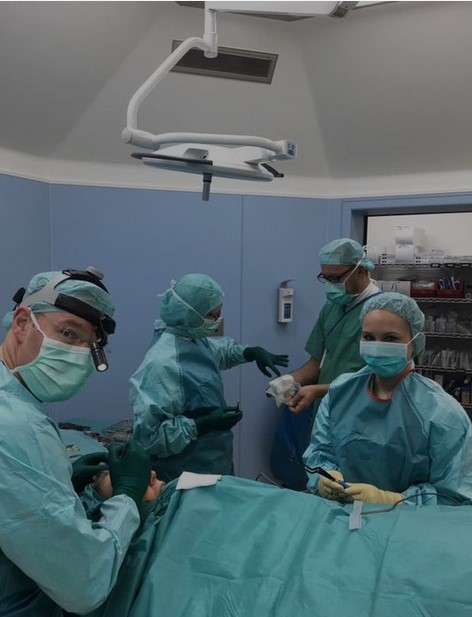face_with_mask: (11, 263, 118, 406), (356, 292, 426, 378), (156, 268, 230, 343), (317, 237, 375, 309)
